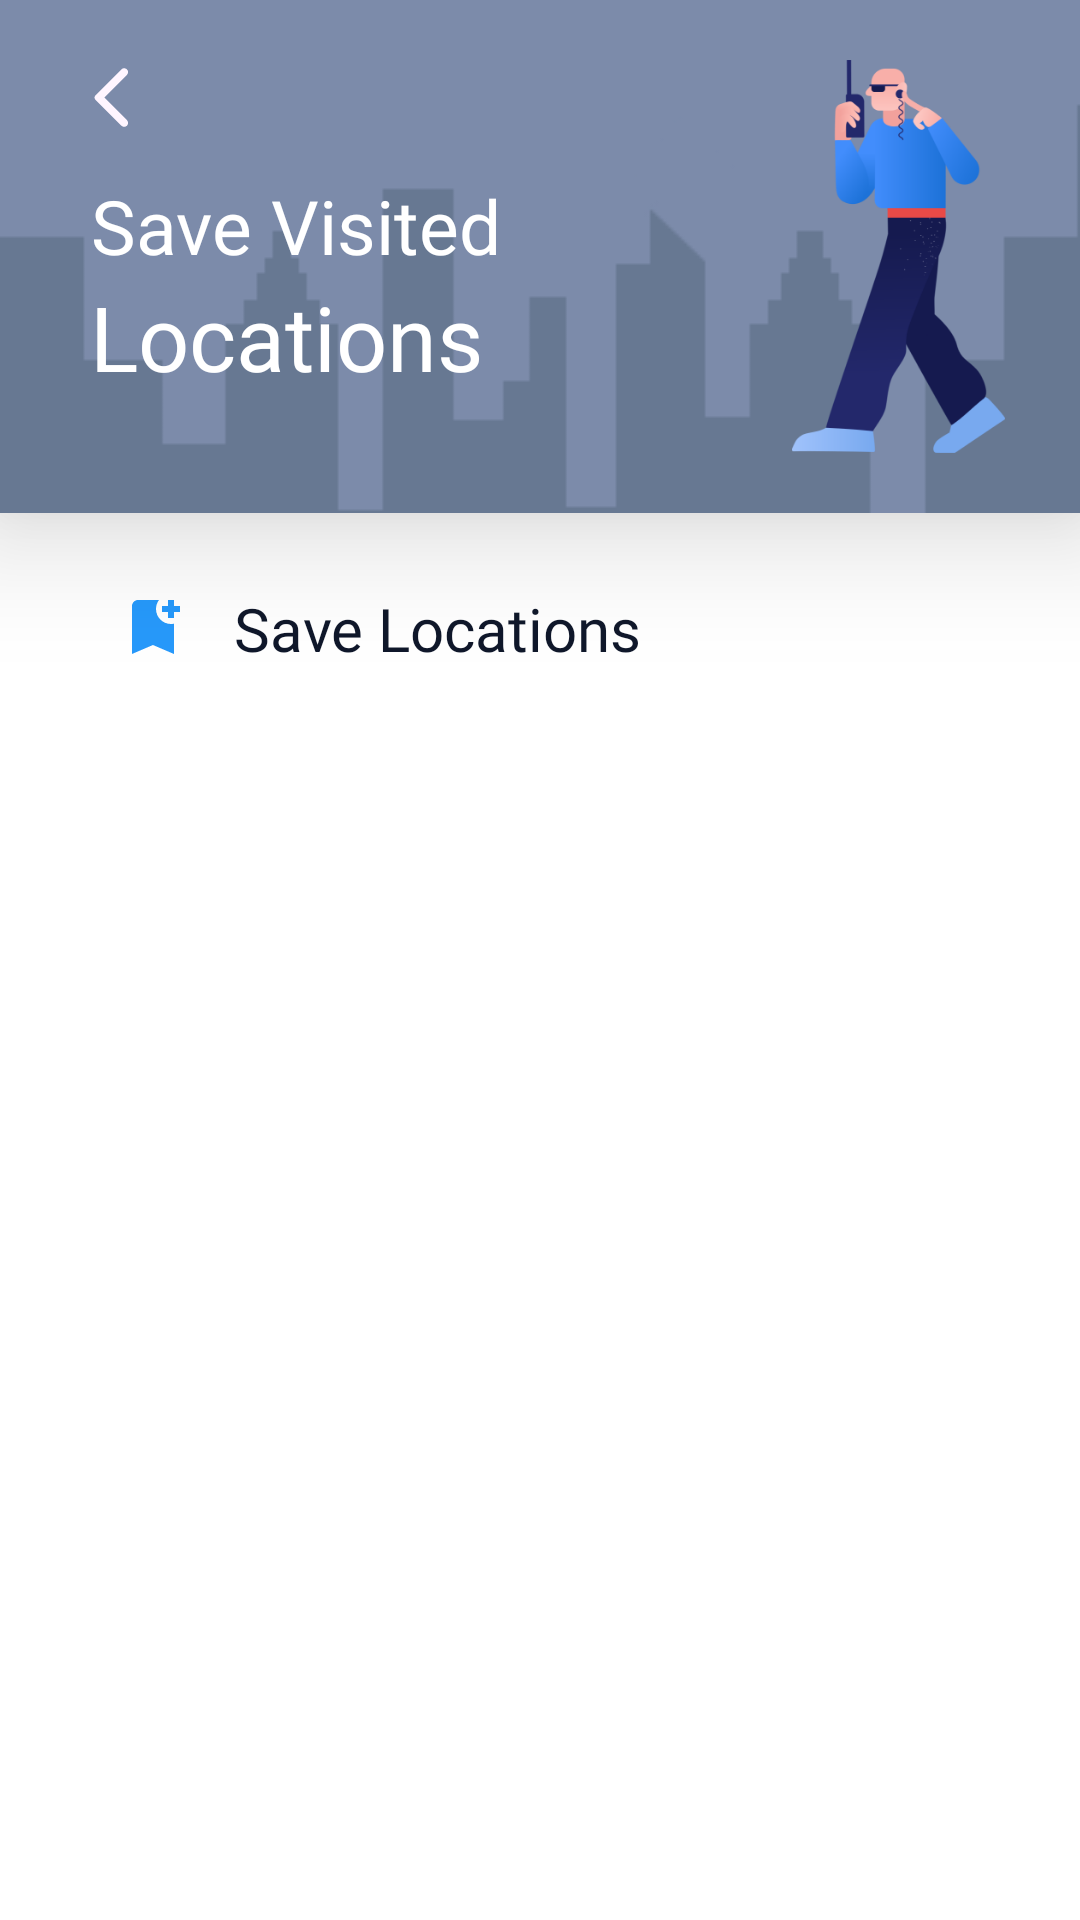

Named icons in this screenshot (1080px×1920px) and their centers, point (x, y):
arrow back: point (111, 97)
